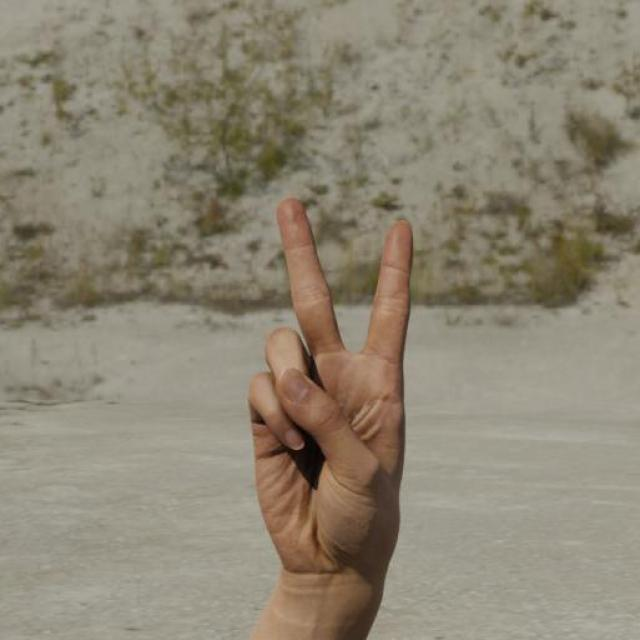V: (243, 193, 419, 578)
